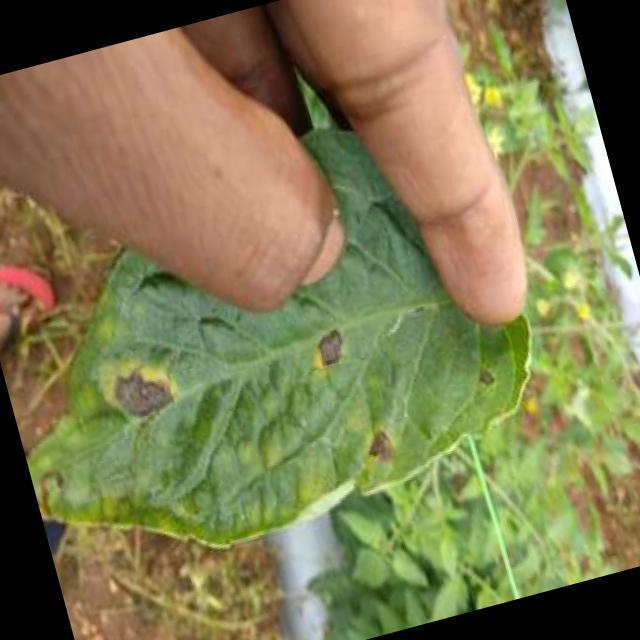Bacterial Spot: (59, 252, 516, 542)
